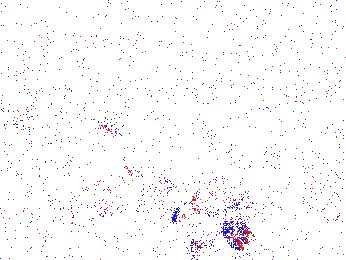flame jellyfish: (191, 177, 255, 251), (121, 135, 175, 203), (175, 200, 217, 257)
